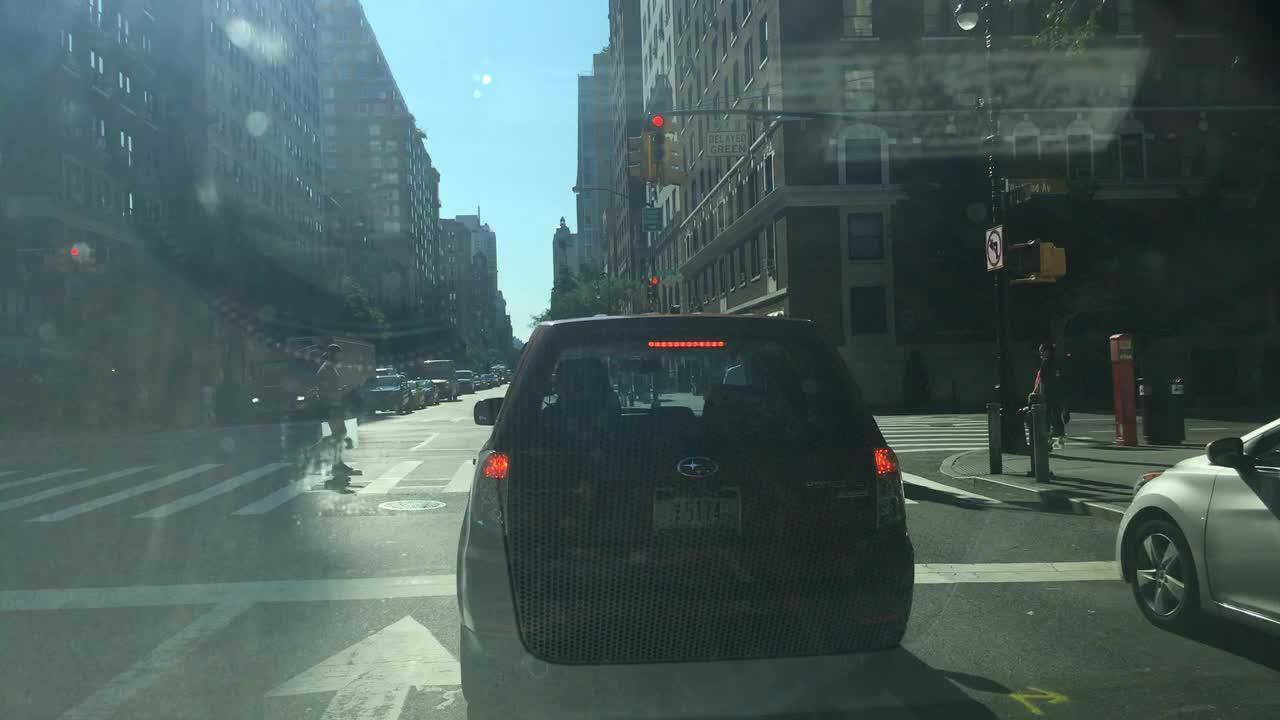subaru: (673, 454, 724, 481)
